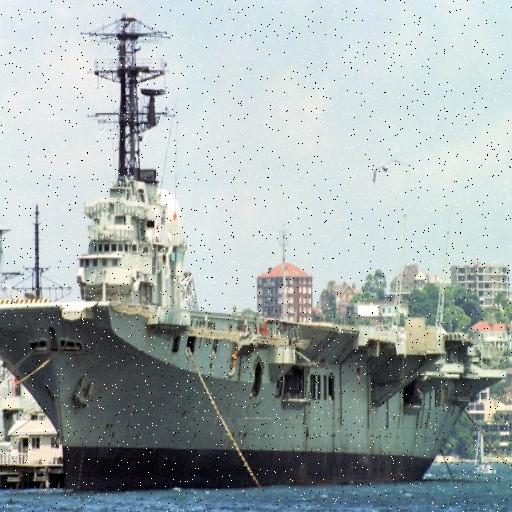Portanaves: (1, 1, 512, 496)
